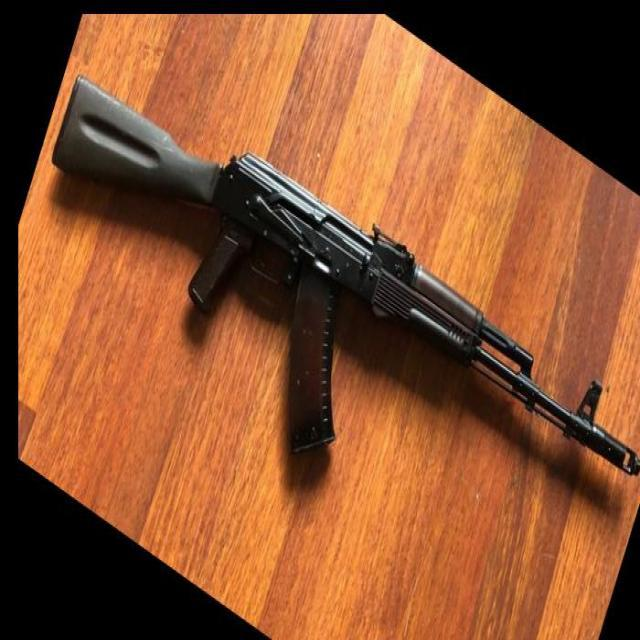weapon: (50, 73, 640, 480)
